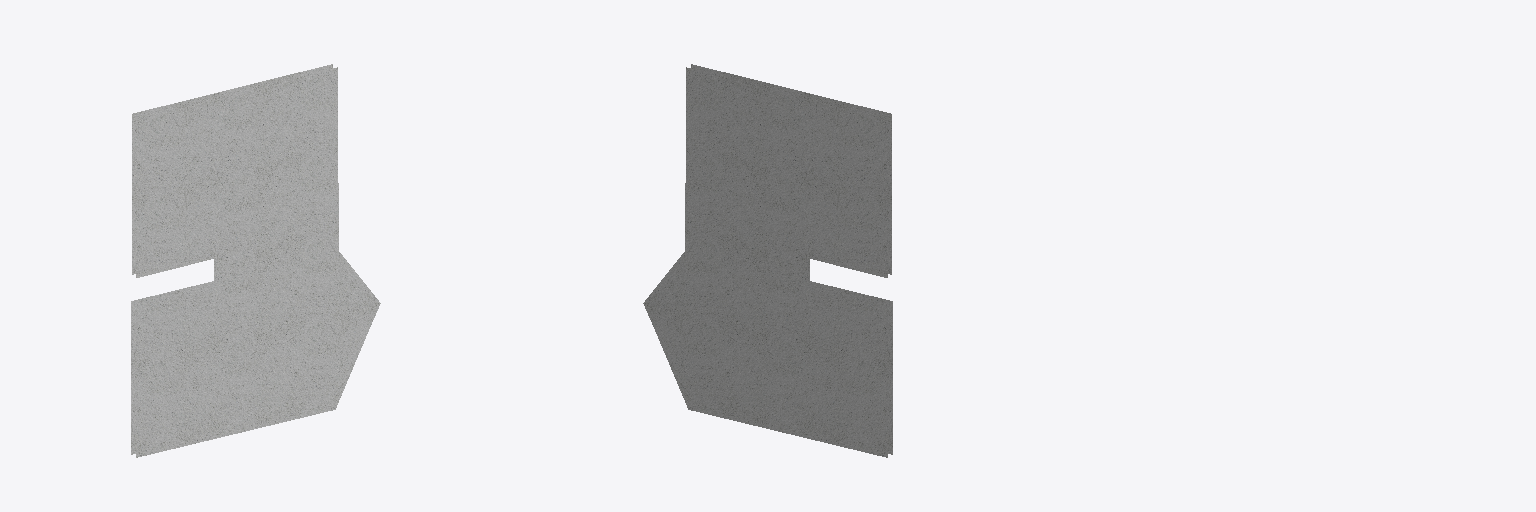
The picture shows the model from 3 angles: view 1: azimuth 30°, elevation 25°; view 2: azimuth 150°, elevation 25°; view 3: azimuth 270°, elevation 25°; orthographic projection.
Visible parts, largest first — view 1: floor_10; view 2: floor_10; view 3: none.
Boxes of the visible parts, box(x1,y1,x2,y2) form: floor_10: box(131, 64, 380, 457); floor_10: box(643, 64, 892, 457).
Size of the model in its own units: 3.12 by 4.16 by 0.1.
Materials: 1 (1 with a texture image).